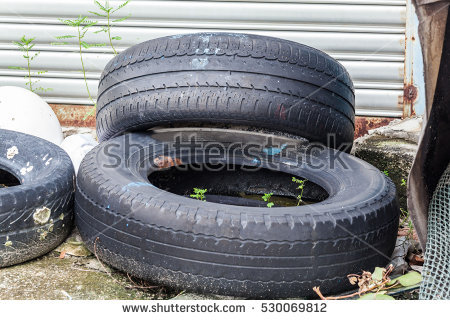tire: (77, 133, 399, 301), (95, 31, 356, 136), (1, 127, 74, 267)
